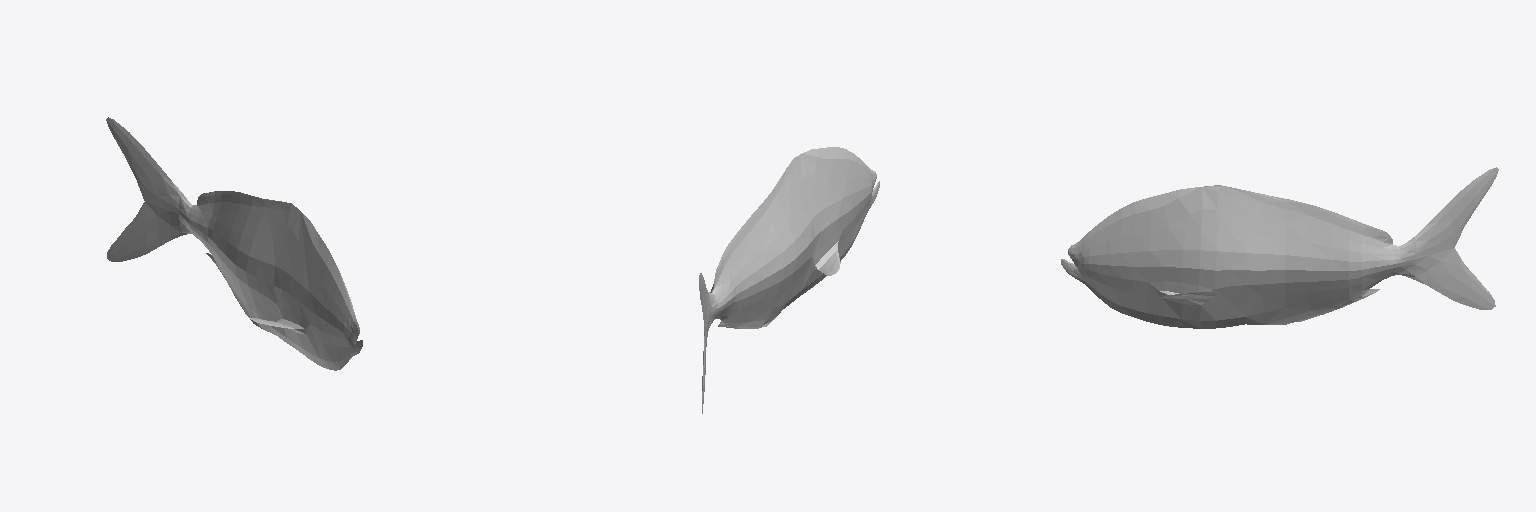
The model's file is ReefFish7.obj.
3 views of the same model, side by side, from view 1: azimuth 30°, elevation 25°; view 2: azimuth 150°, elevation 25°; view 3: azimuth 270°, elevation 25° (orthographic).
Visible parts, largest first — view 1: Plane; view 2: Plane; view 3: Plane.
Boxes of the visible parts, box(x1,y1,x2,y2) form: Plane: box(106, 117, 362, 370); Plane: box(699, 147, 879, 413); Plane: box(1061, 167, 1498, 328).
Bounding box in the file's own units: 1.95 × 3.29 × 8.87.